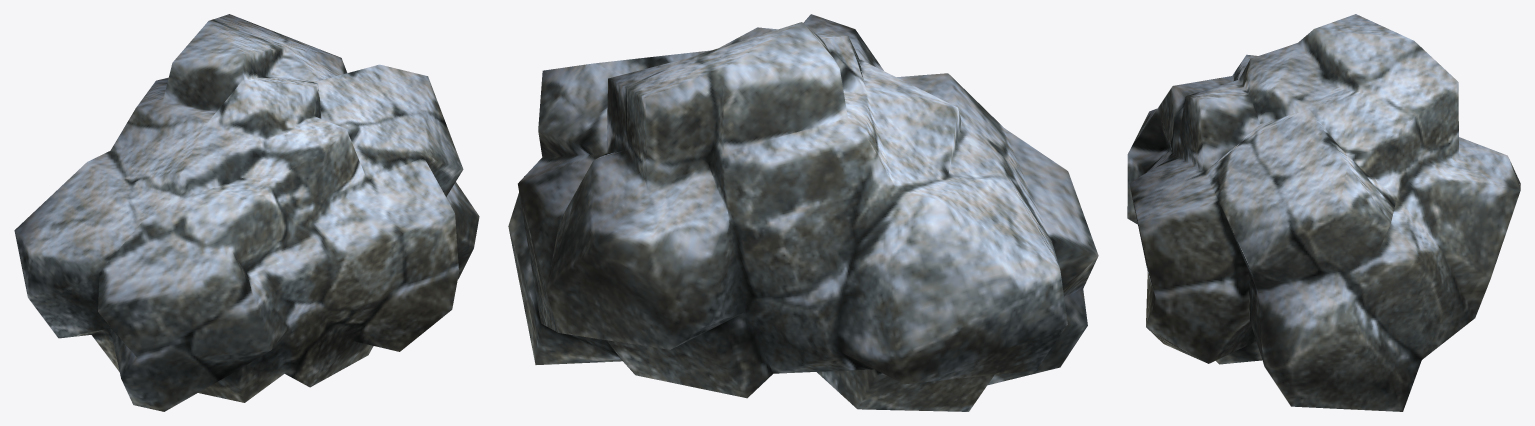
Rendered from SC_bingfengyiji_shitou05.FBX.
3 renders of one model, left to right at view 1: azimuth 30°, elevation 25°; view 2: azimuth 150°, elevation 25°; view 3: azimuth 270°, elevation 25°, orthographic. The views are drawn at different scales.
Parts seen in each view (by area): view 1: SC_bingfengyiji_shitou05; view 2: SC_bingfengyiji_shitou05; view 3: SC_bingfengyiji_shitou05.
Boxes of the visible parts, x1=… form: SC_bingfengyiji_shitou05: x1=14, y1=14, x2=479, y2=411; SC_bingfengyiji_shitou05: x1=508, y1=14, x2=1098, y2=411; SC_bingfengyiji_shitou05: x1=1127, y1=14, x2=1520, y2=411.
Size of the model in its own units: 442 by 283 by 330.
